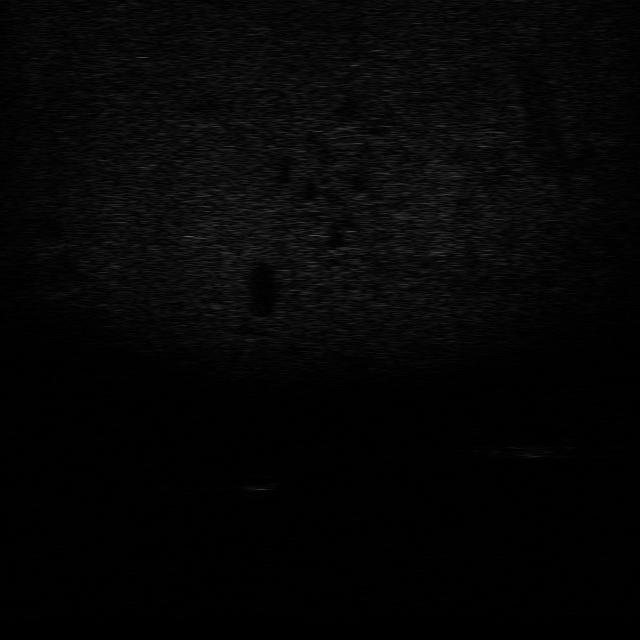ball: (244, 470, 282, 493)
human body: (465, 438, 581, 459)
